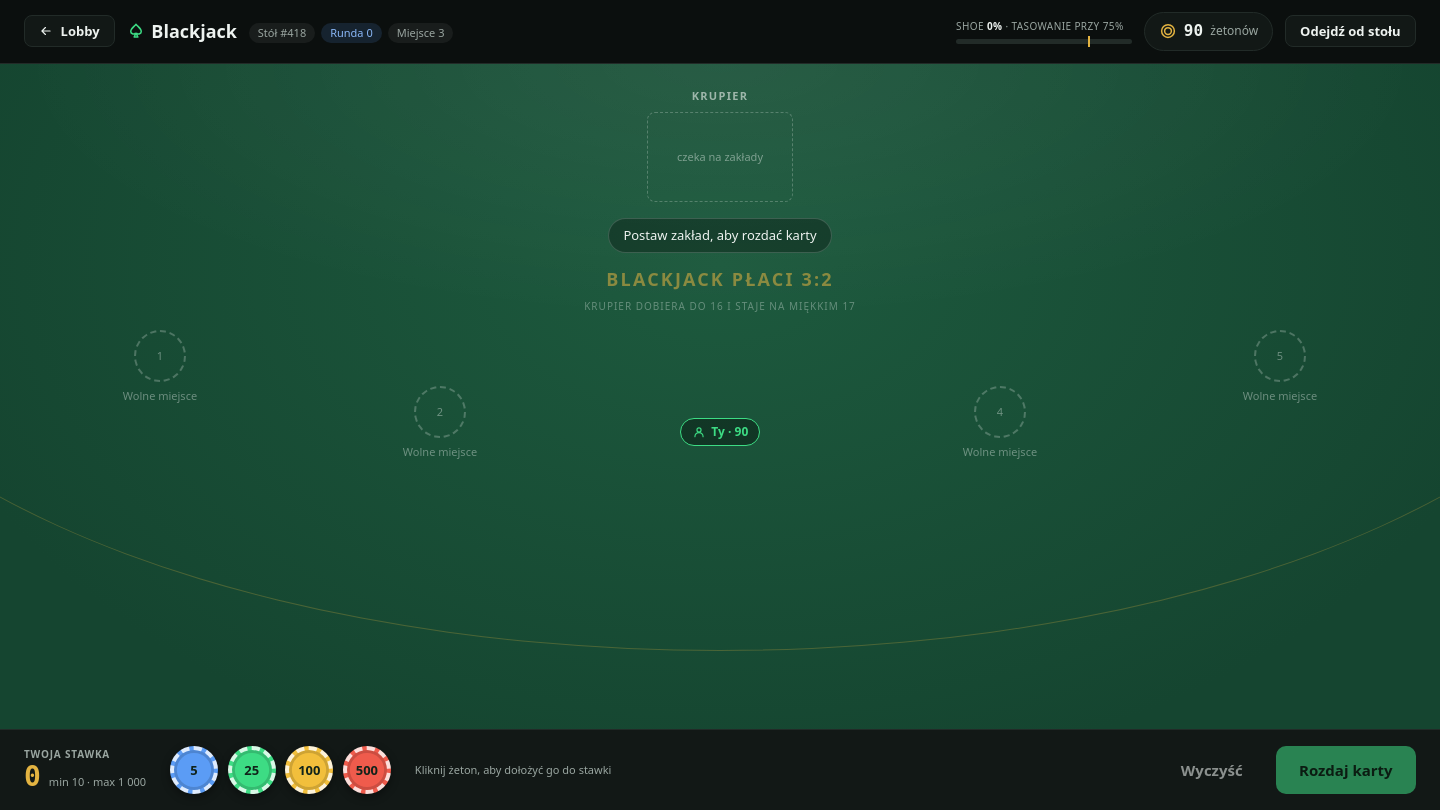
Test: BlackjackTablePage › rejects a bet above the balance
This screenshot has width=1440, height=810.
Expected: the heading "Blackjack" is shown, [127, 18, 237, 45]
Click the button "100": (309,770) [285, 746, 333, 794]
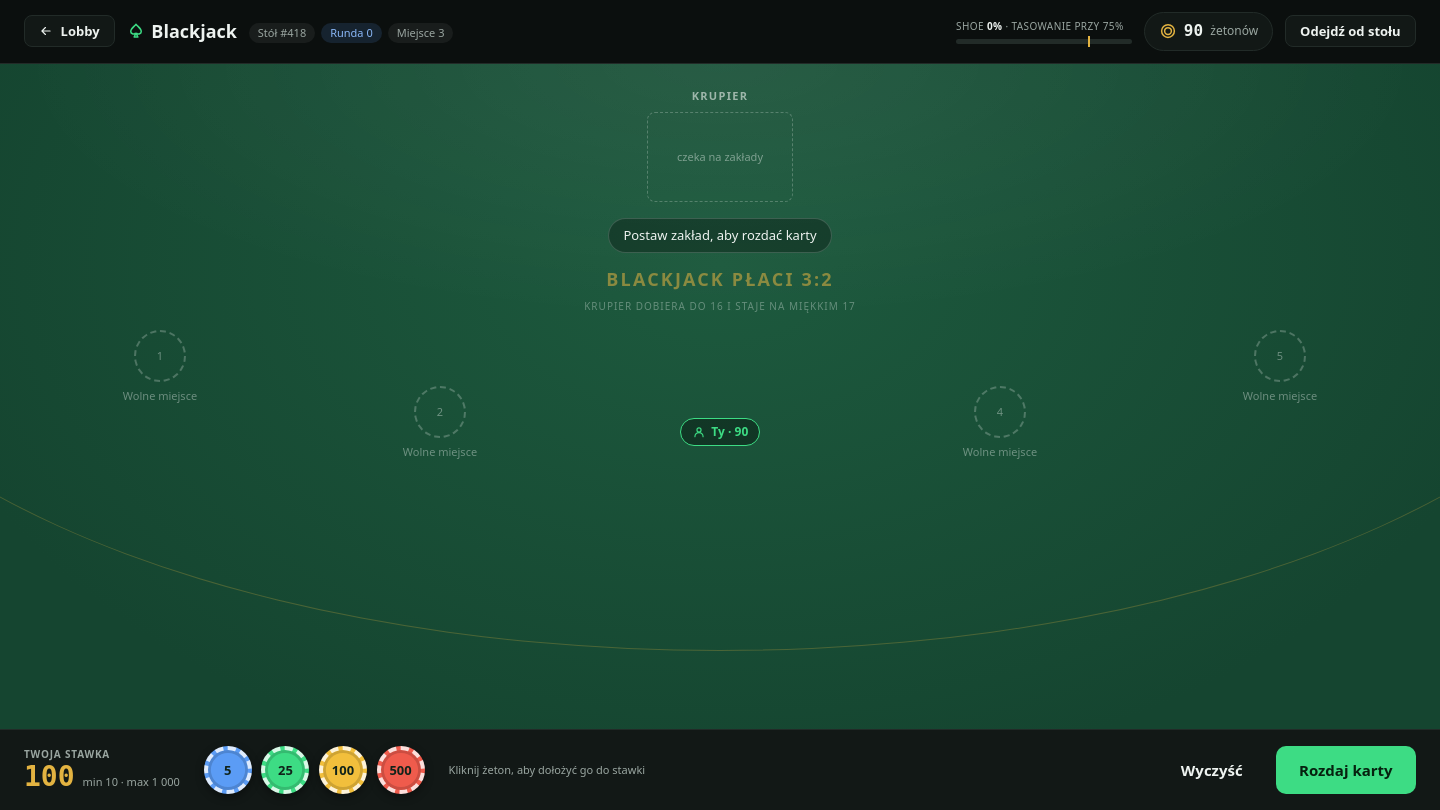
Click the button "Rozdaj karty": (1346,770) [1276, 746, 1416, 794]
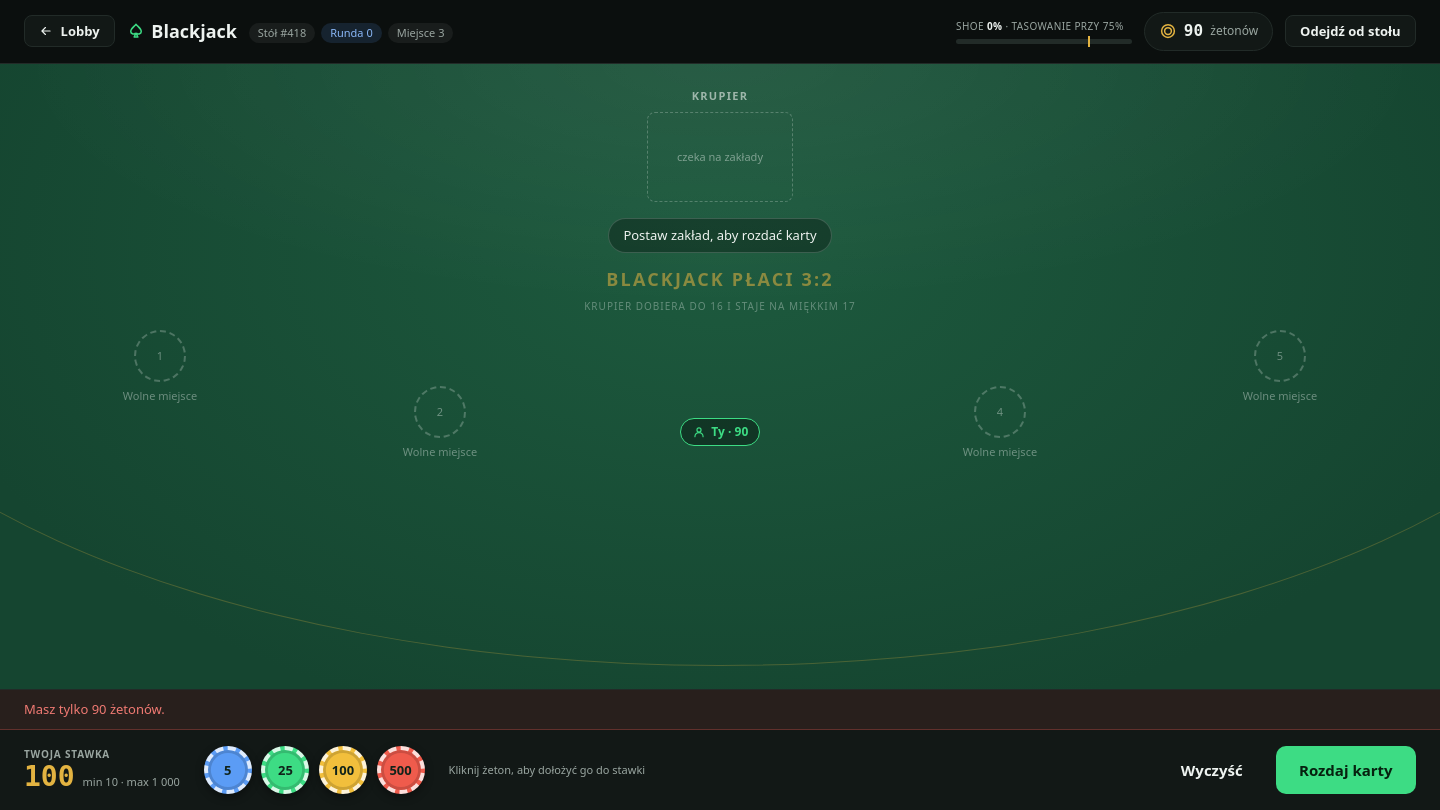
Now the message "Masz tylko 90 żetonów." is shown, box [0, 690, 1439, 730]
